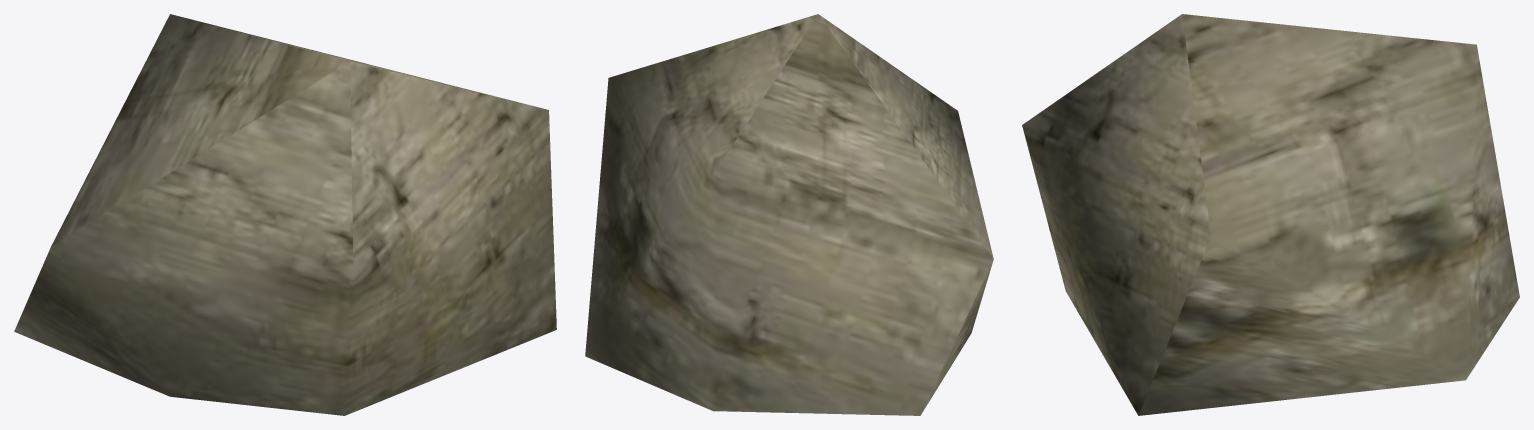
Rendered from stone-2.glb.
3 renders of one model, left to right at view 1: azimuth 30°, elevation 25°; view 2: azimuth 150°, elevation 25°; view 3: azimuth 270°, elevation 25°, orthographic. The views are drawn at different scales.
Visible parts, largest first — view 1: stone-2; view 2: stone-2; view 3: stone-2.
Boxes of the visible parts, left/top/right/bottom form: stone-2: left=14, top=14, right=556, bottom=415; stone-2: left=585, top=14, right=993, bottom=415; stone-2: left=1022, top=14, right=1519, bottom=415.
Bounding box in the file's own units: 1.29 × 0.8037 × 1.18.
1 material, 1 textured.
